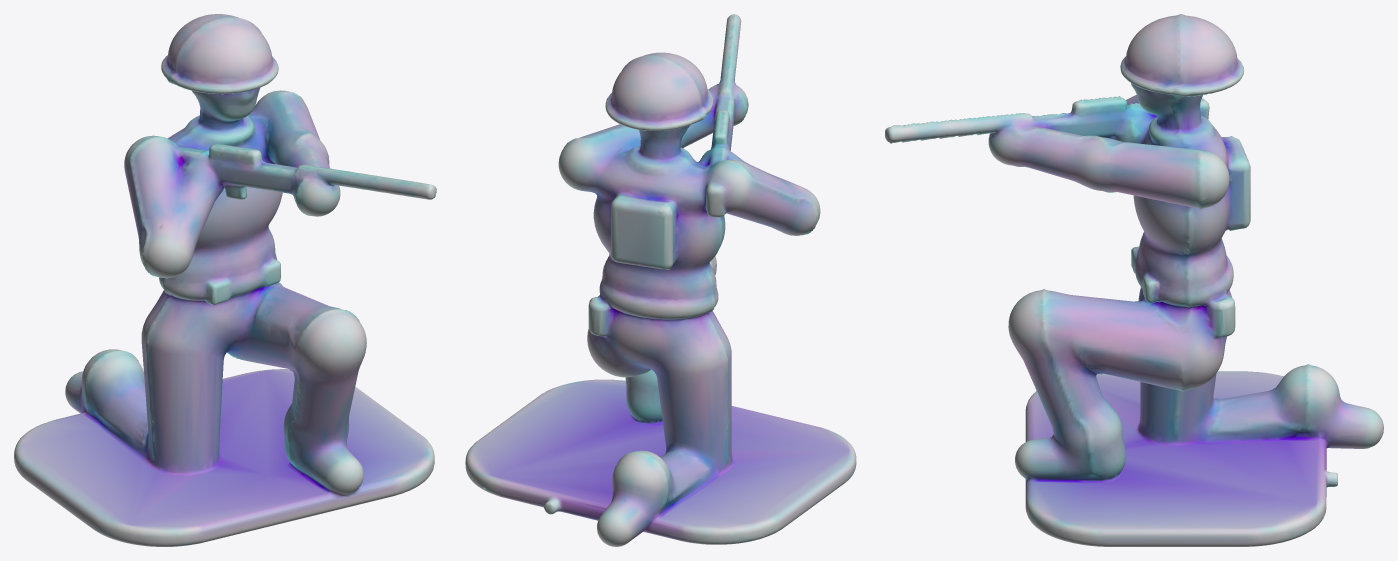
Rendered from sergent.glb.
The picture shows the model from 3 angles, left to right: view 1: azimuth 30°, elevation 25°; view 2: azimuth 150°, elevation 25°; view 3: azimuth 270°, elevation 25°; orthographic projection. The views are drawn at different scales.
Parts seen in each view (by area): view 1: sergent; view 2: sergent; view 3: sergent.
Boxes of the visible parts, x1,y1,x2,y2 form: sergent: (14,14,436,546); sergent: (465,14,856,546); sergent: (885,14,1383,546).
Size of the model in its own units: 0.46 by 0.5917 by 0.5969.
